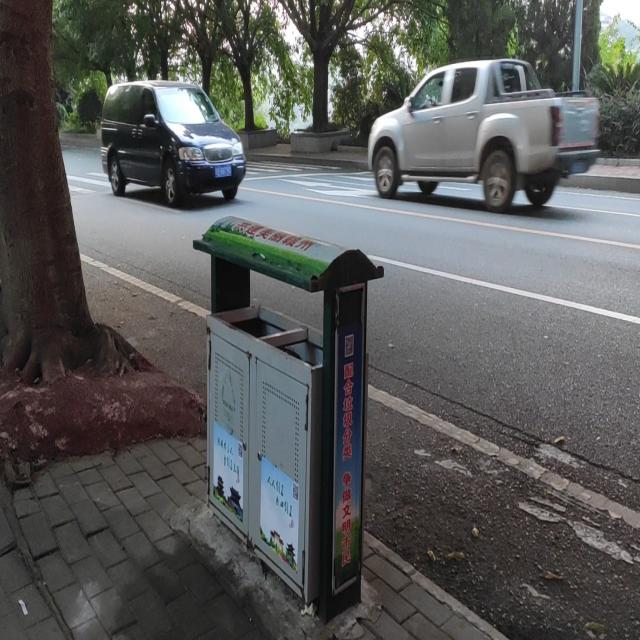ash bin: (194, 217, 388, 621)
car: (368, 53, 602, 213), (100, 79, 246, 208)
